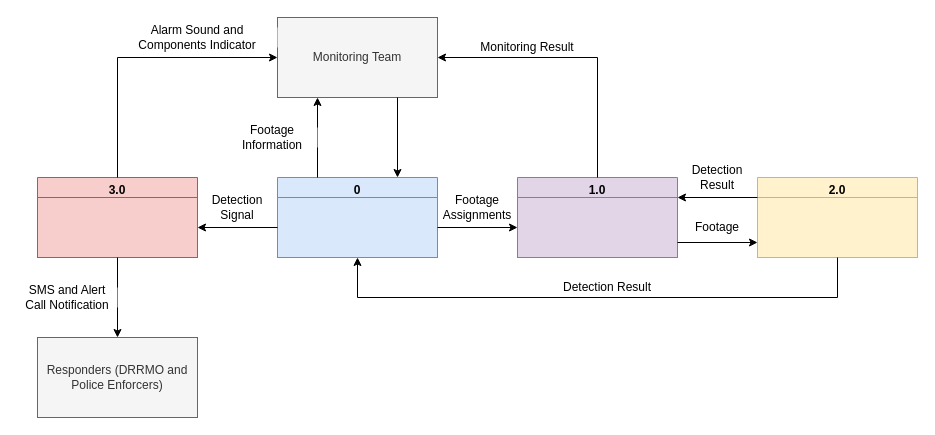
This 935x435 diagram has some shape labels left out. Here are the shapes that lost their labels. From the top down, the box of each, then its label:
(36, 196, 198, 258): Alarm and Alert Notification
(276, 196, 438, 258): Automated Road Accident Monitoring and Alarm System
(516, 196, 678, 258): Graphical User Interface
(756, 196, 918, 258): Multiple Footage Monitoring
